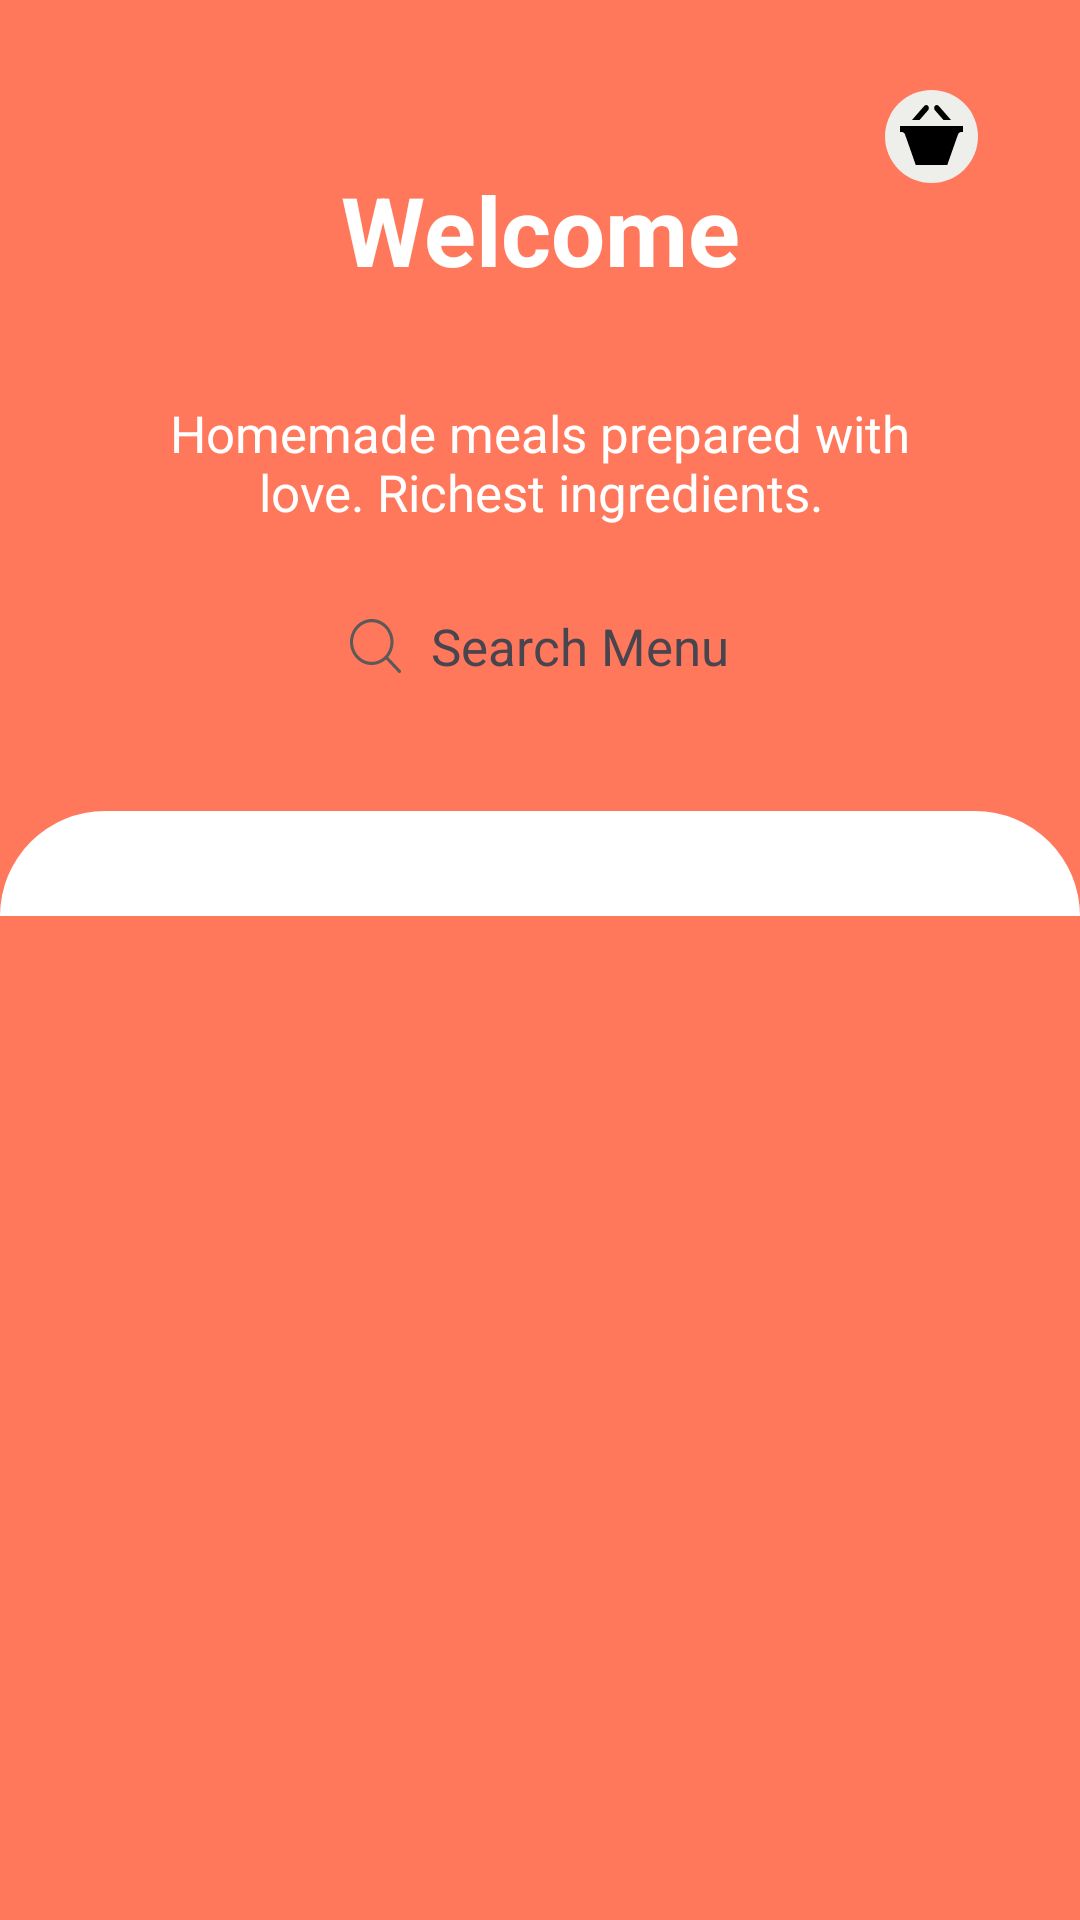

Screen size 1080 x 1920. Icon name, then its box in pixels as (x1, y1, x2, y2):
basket: (885, 90, 978, 183)
